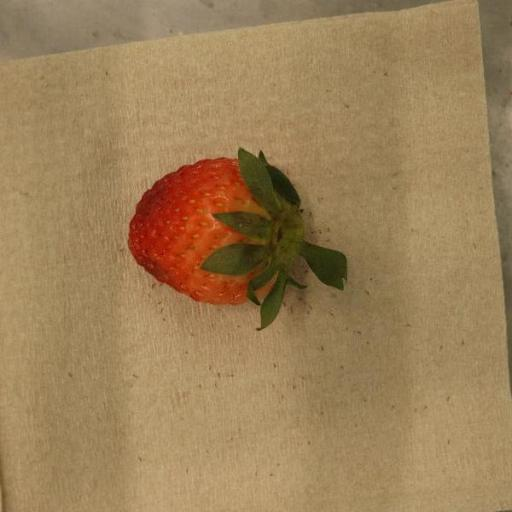Strawberry: (129, 149, 348, 331)
